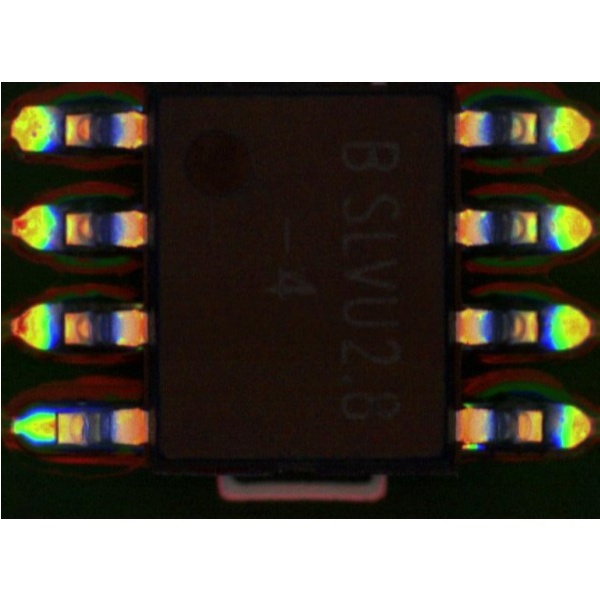Bad_podu: (48, 413, 64, 441)
